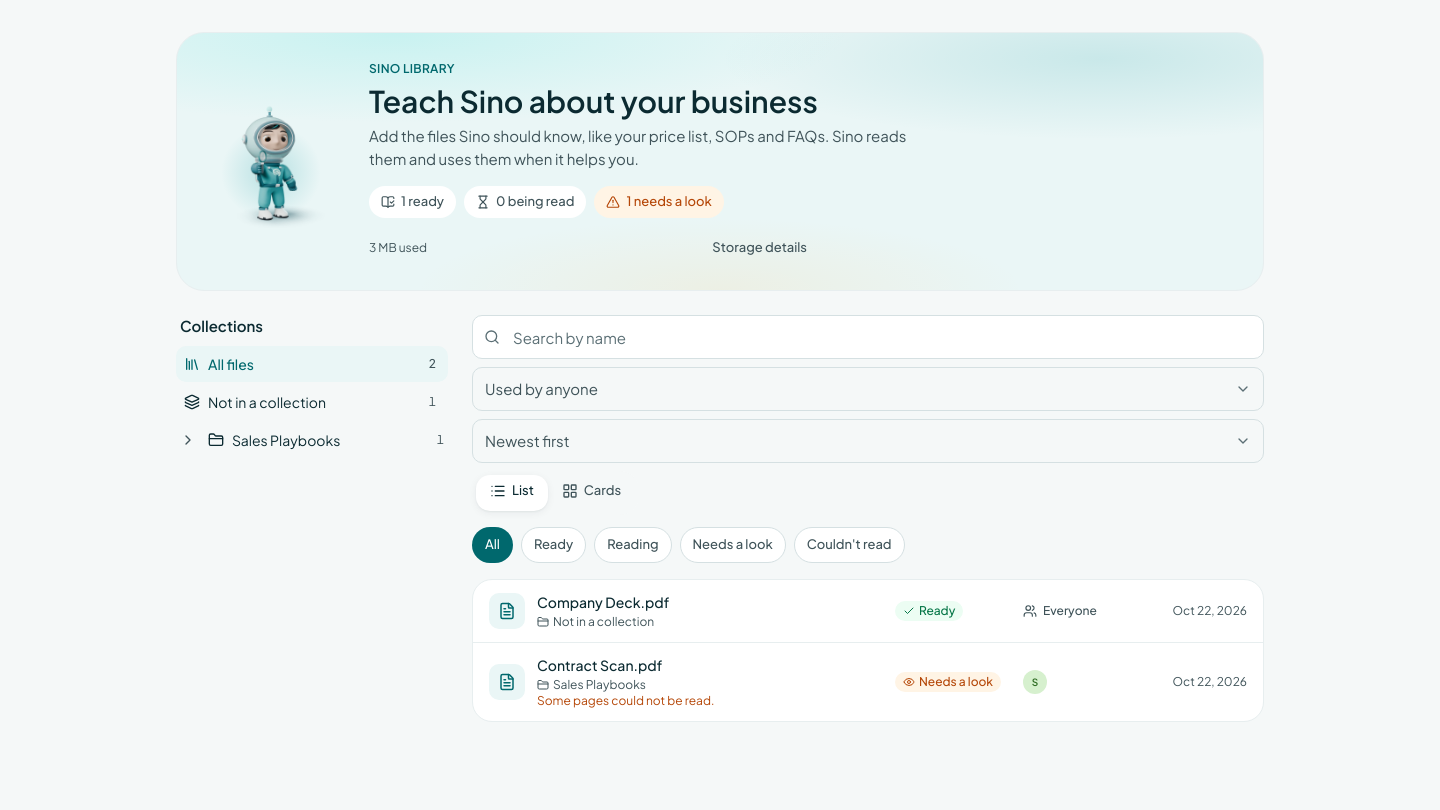
the file drawer › shows a viewer the facts and no controls
Click the button with aria-label "Open Contract Scan.pdf" at (507, 682), box 473,643 -> 1263,721
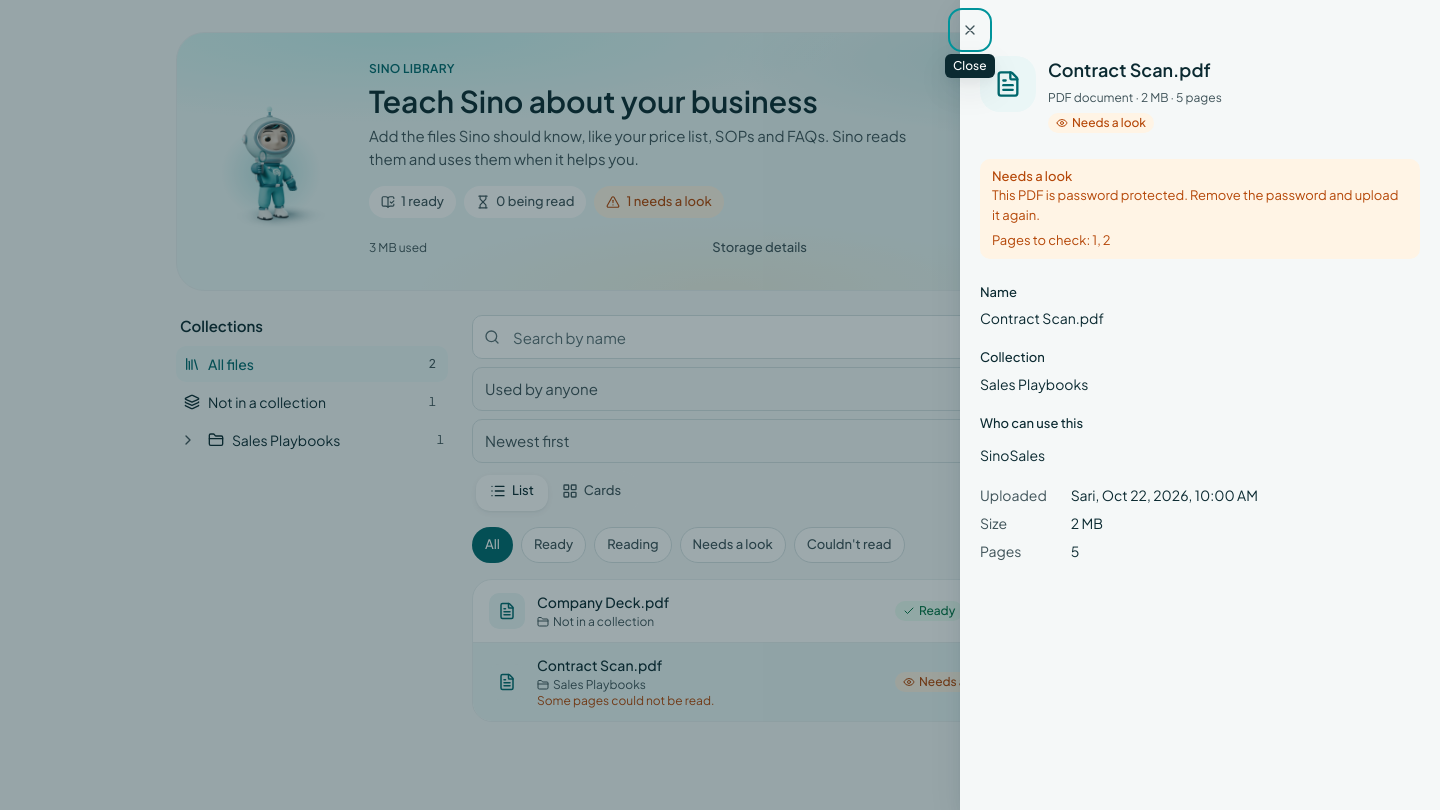
Check: the text "SinoSales" is shown, box 980,446 -> 1045,464
